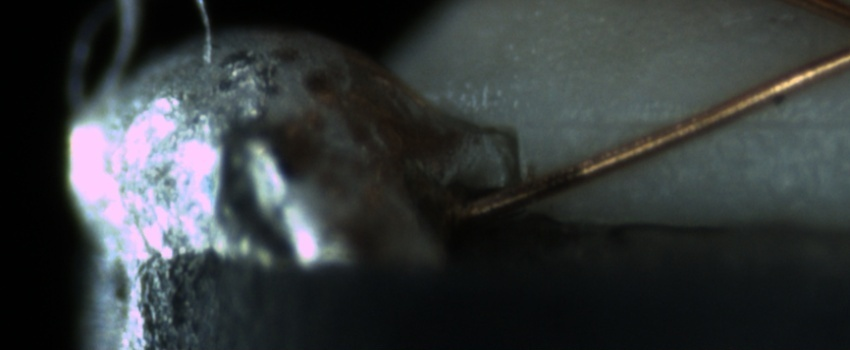DL: (559, 92, 849, 153)
